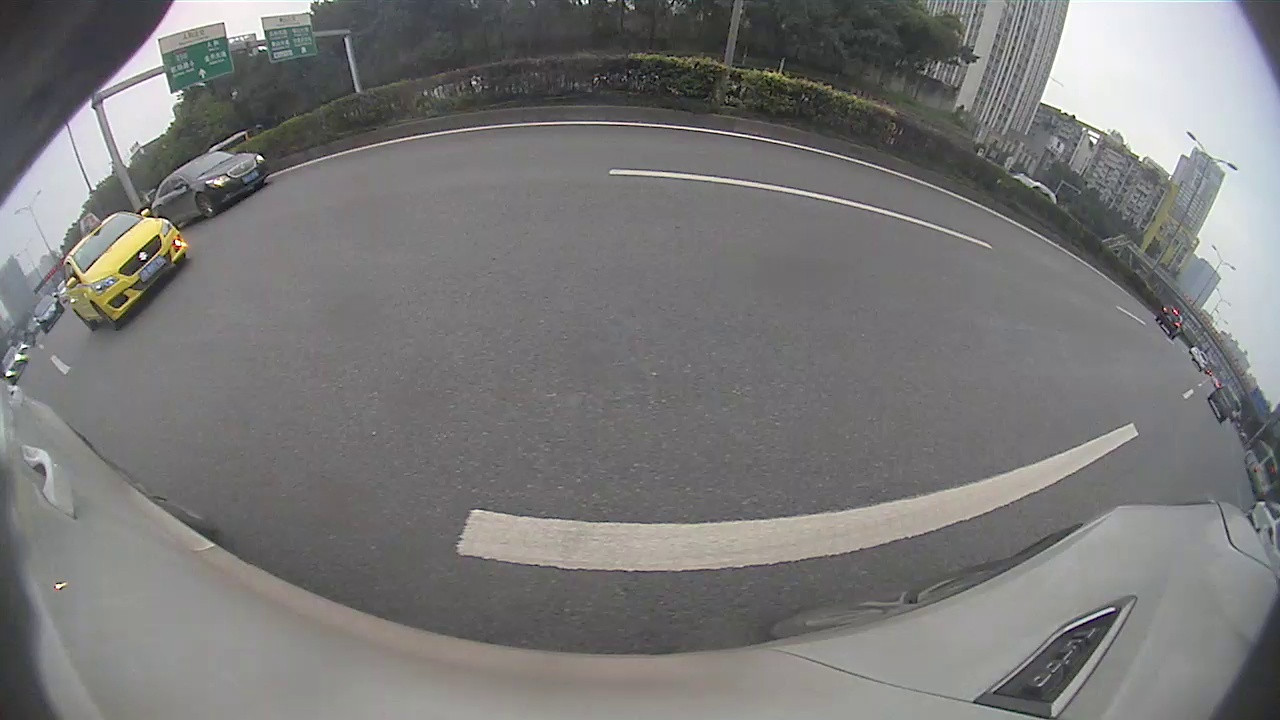car: (60, 206, 189, 333), (148, 148, 272, 231), (1205, 381, 1243, 426), (1154, 302, 1186, 343)
front: (90, 301, 119, 332), (196, 192, 216, 220)
